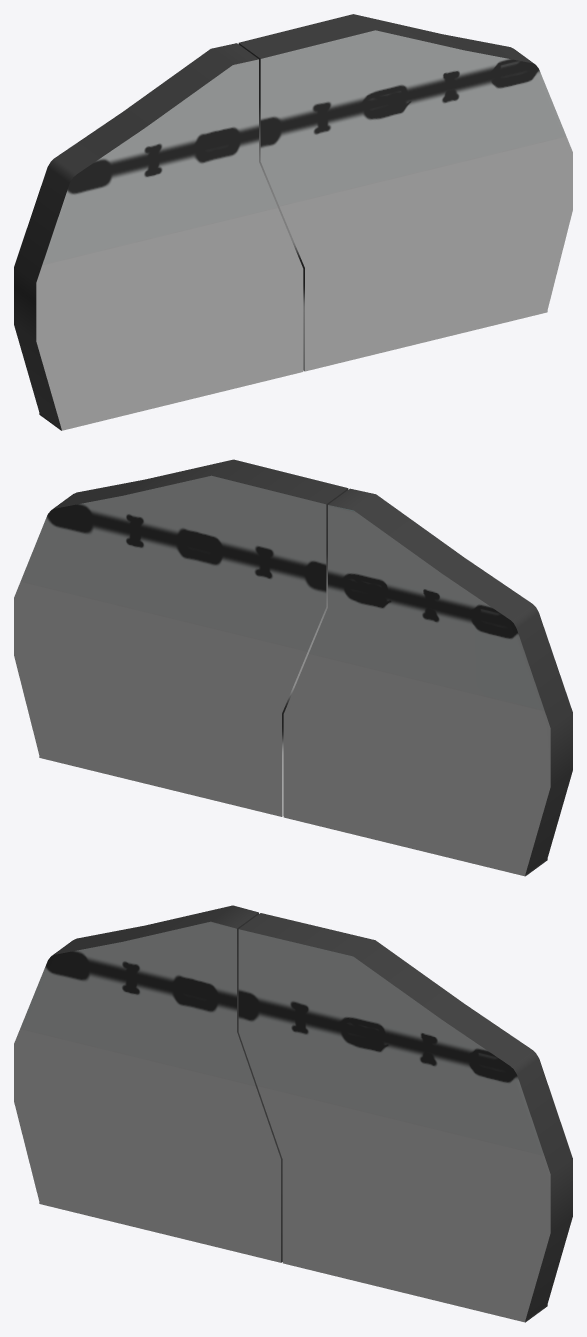
Rendered from Doors 1.fbx.
3 views of the same model, one above another, from view 1: azimuth 30°, elevation 25°; view 2: azimuth 150°, elevation 25°; view 3: azimuth 330°, elevation 25° (orthographic).
Visible parts, largest first — view 1: Door_01, Door_02; view 2: Door_01, Door_02; view 3: Door_01, Door_02.
Boxes of the visible parts, x1,y1,x2,y2 form: Door_01: (238,14,572,371); Door_02: (14,43,303,430); Door_01: (14,459,348,816); Door_02: (283,488,572,876); Door_01: (238,913,572,1322); Door_02: (14,905,282,1262).
Size of the model in its own units: 7.02 by 4.05 by 0.5078.
